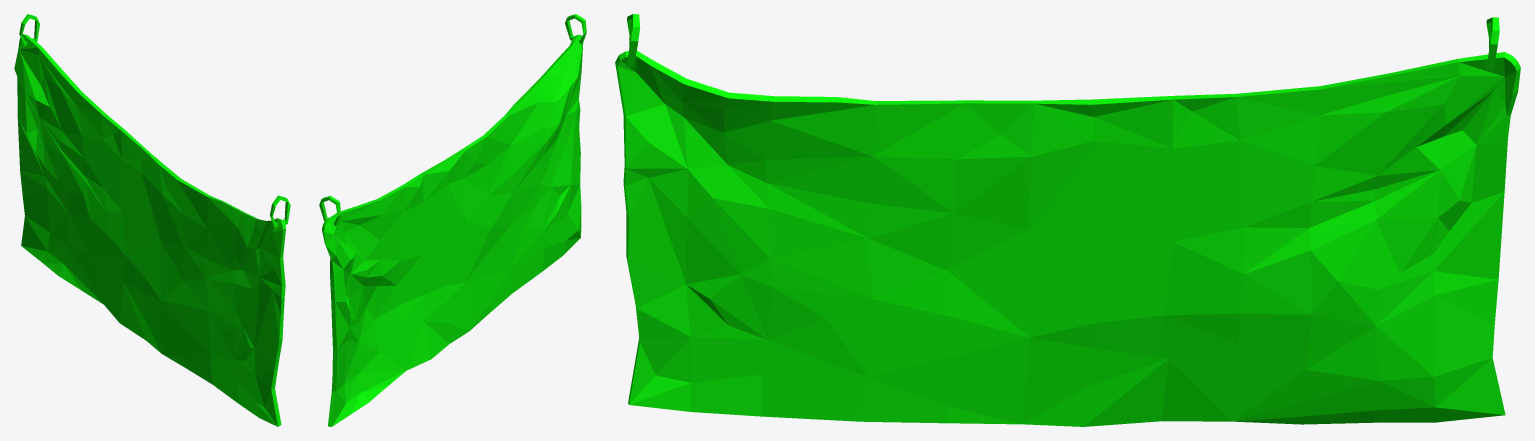
File: SM_Market_Stall_Cloth_Wall_Long_Stripes.fbx
3 views of the same model, side by side, from view 1: azimuth 30°, elevation 25°; view 2: azimuth 150°, elevation 25°; view 3: azimuth 270°, elevation 25° (orthographic). The views are drawn at different scales.
Visible parts, largest first — view 1: market-stall-cloth-wall-long-stripes; view 2: market-stall-cloth-wall-long-stripes; view 3: market-stall-cloth-wall-long-stripes.
Boxes of the visible parts, bbox=[...] form: market-stall-cloth-wall-long-stripes: bbox=[14, 14, 290, 426]; market-stall-cloth-wall-long-stripes: bbox=[319, 14, 586, 426]; market-stall-cloth-wall-long-stripes: bbox=[615, 14, 1520, 426].
Bounding box in the file's own units: 0.2404 × 2.31 × 4.62.
